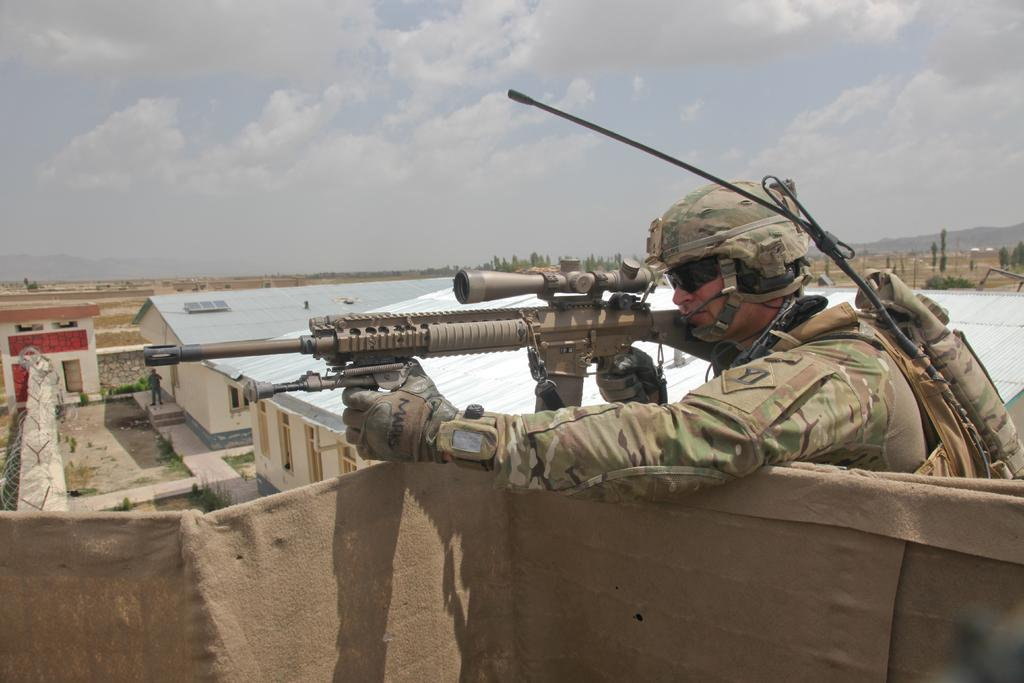Rifle: (147, 270, 739, 409)
